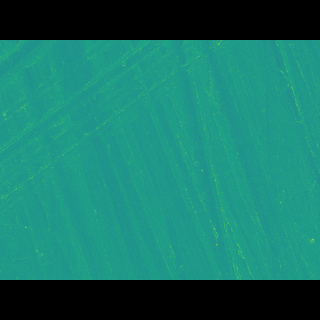Loch: (0, 68, 244, 201), (165, 68, 244, 250)
